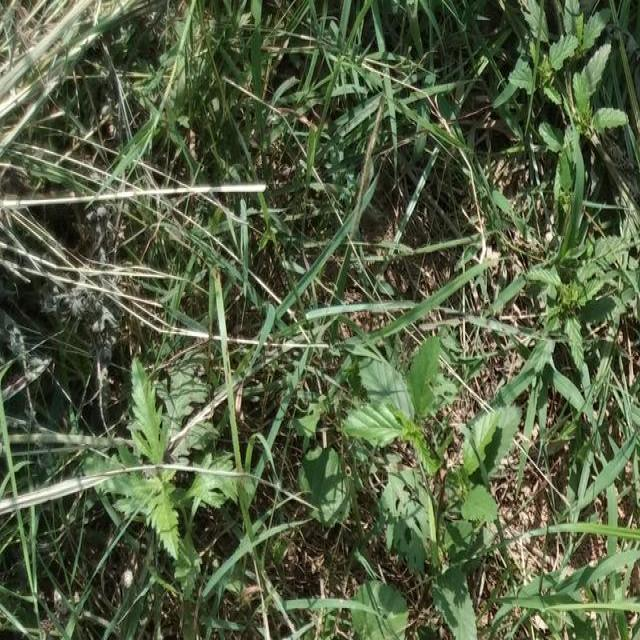weed: (340, 347, 512, 506), (502, 3, 626, 216), (116, 402, 218, 550)
